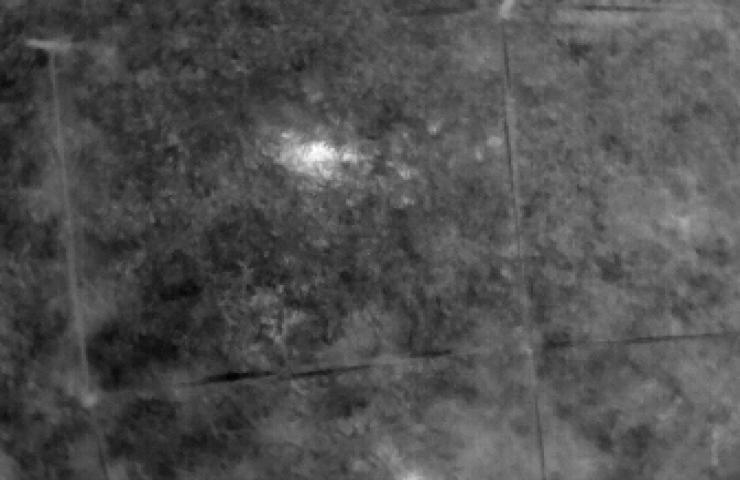landmines: (281, 137, 346, 177)
